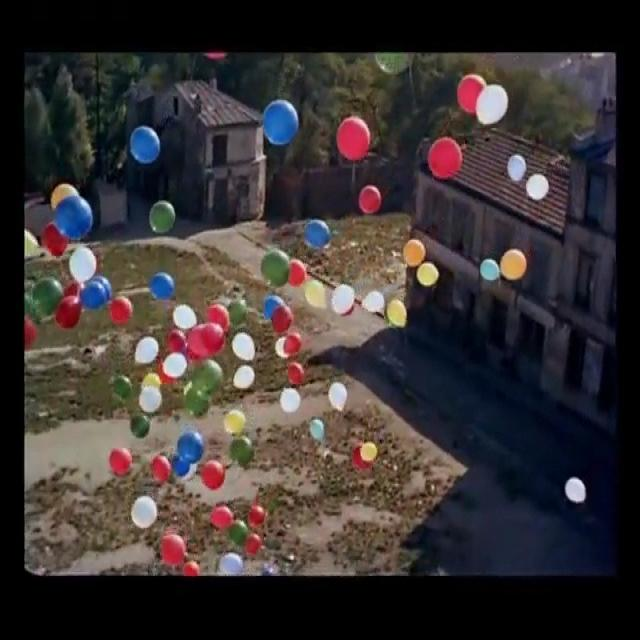balloon: (262, 99, 298, 145), (335, 116, 370, 161), (427, 136, 462, 180), (475, 86, 507, 127), (190, 358, 224, 396), (129, 124, 160, 164), (59, 200, 91, 236), (34, 280, 64, 316), (182, 388, 213, 419), (82, 274, 112, 304), (148, 200, 175, 233), (460, 74, 483, 112), (72, 248, 96, 283), (506, 148, 528, 186), (262, 253, 288, 285), (190, 329, 226, 352), (358, 184, 382, 215), (134, 494, 155, 529), (43, 227, 67, 257), (401, 240, 425, 269), (374, 52, 410, 71), (502, 248, 526, 276), (304, 219, 329, 245), (51, 180, 75, 207), (179, 433, 204, 458), (136, 336, 158, 364), (336, 286, 356, 316), (174, 303, 196, 330), (136, 335, 158, 362), (234, 332, 256, 359), (163, 533, 183, 562), (202, 464, 226, 488), (208, 506, 232, 530), (109, 295, 134, 318), (137, 389, 163, 411), (156, 270, 175, 300), (62, 296, 82, 324), (307, 281, 328, 307), (226, 408, 246, 435), (566, 474, 585, 501), (167, 329, 189, 352), (235, 438, 256, 461), (112, 446, 132, 470), (526, 178, 548, 199), (166, 355, 188, 376), (208, 304, 227, 328), (236, 364, 254, 389), (154, 455, 171, 481), (280, 390, 300, 412), (332, 384, 348, 410), (363, 290, 382, 311), (482, 258, 500, 280), (142, 370, 164, 388), (391, 298, 407, 322), (134, 409, 148, 436), (229, 300, 246, 322), (274, 312, 291, 333), (263, 298, 285, 314), (358, 445, 378, 462), (290, 363, 306, 384), (25, 321, 38, 346), (276, 336, 290, 359), (184, 558, 202, 575), (248, 536, 264, 555), (422, 265, 437, 285), (174, 456, 189, 476), (308, 418, 324, 436), (291, 262, 306, 280), (275, 311, 291, 327), (252, 506, 268, 522), (22, 231, 35, 250), (232, 525, 246, 541), (225, 558, 239, 571), (287, 338, 303, 348)
